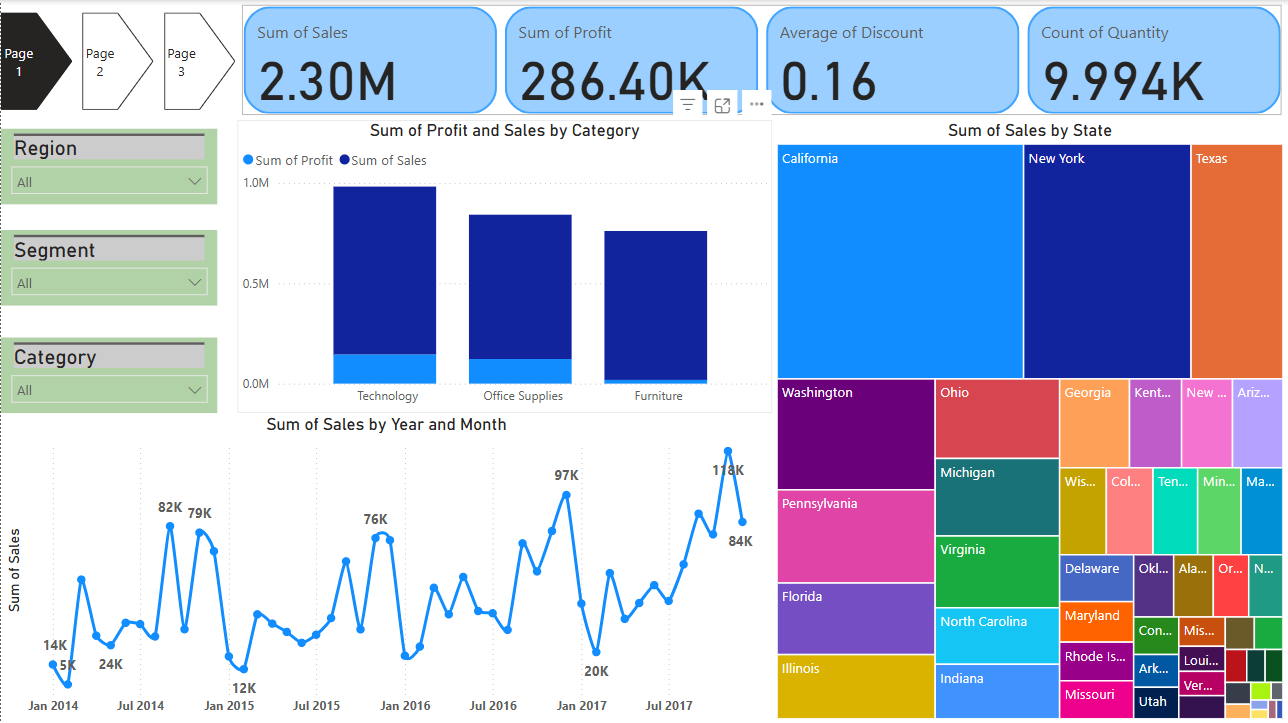

The page's visual inventory and layout, read from the dashboard file:
{"tool":"powerbi","page":{"name":"Page 1","canvas":[1280,720],"ordinal":0},"visuals":[{"type":"cardVisual","fields":{"Data":["Sum(Sample - Superstore.Sales)","Sum(Sample - Superstore.Profit)","Avg(Sample - Superstore.Discount)","CountNonNull(Sample - Superstore.Quantity)"]},"box":[234.6,0,1045.6,119.4],"z":0},{"type":"slicer","fields":{"Values":["Sample - Superstore.Region"]},"box":[0,127.6,215.4,75.5],"z":1000},{"type":"slicer","fields":{"Values":["Sample - Superstore.Segment"]},"box":[0,229.2,215.4,75.5],"z":2000},{"type":"slicer","fields":{"Values":["Sample - Superstore.Category","Sample - Superstore.Sub-Category"]},"box":[0,336.2,215.4,75.5],"z":3000},{"type":"columnChart","title":"Sum of Profit and Sales by Category","fields":{"Category":["Sample - Superstore.Category"],"Y":["Sum(Sample - Superstore.Profit)","Sum(Sample - Superstore.Sales)"]},"box":[234.6,119.4,532.4,292.3],"z":4000},{"type":"lineChart","fields":{"Category":["Sample - Superstore.Order_Date.Variation.Date Hierarchy.Year","Sample - Superstore.Order_Date.Variation.Date Hierarchy.Month"],"Y":["Sum(Sample - Superstore.Sales)"]},"box":[0,411.7,767.1,308.7],"z":5000},{"type":"treemap","fields":{"Group":["Sample - Superstore.State"],"Values":["Sum(Sample - Superstore.Sales)"]},"box":[767.1,119.4,513.2,601],"z":6000},{"type":"pageNavigator","box":[0,12.3,234.6,97.4],"z":6001}]}

Visuals, with their boxes in screenshot pixels (x1, y1, x2, y2), scaled from the page's 1280x720 canvas onto the 1288x723 screenshot:
cardVisual - Sum(Sample - Superstore.Sales) x Sum(Sample - Superstore.Profit): <bbox>236, 0, 1287, 120</bbox>
slicer - Sample - Superstore.Region: <bbox>0, 128, 217, 204</bbox>
slicer - Sample - Superstore.Segment: <bbox>0, 230, 217, 306</bbox>
slicer - Sample - Superstore.Category x Sample - Superstore.Sub-Category: <bbox>0, 338, 217, 413</bbox>
"Sum of Profit and Sales by Category" columnChart: <bbox>236, 120, 772, 413</bbox>
lineChart - Sample - Superstore.Order_Date.Variation.Date Hierarchy.Year x Sample - Superstore.Order_Date.Variation.Date Hierarchy.Month: <bbox>0, 413, 772, 722</bbox>
treemap - Sample - Superstore.State x Sum(Sample - Superstore.Sales): <bbox>772, 120, 1287, 722</bbox>
pageNavigator: <bbox>0, 12, 236, 110</bbox>
